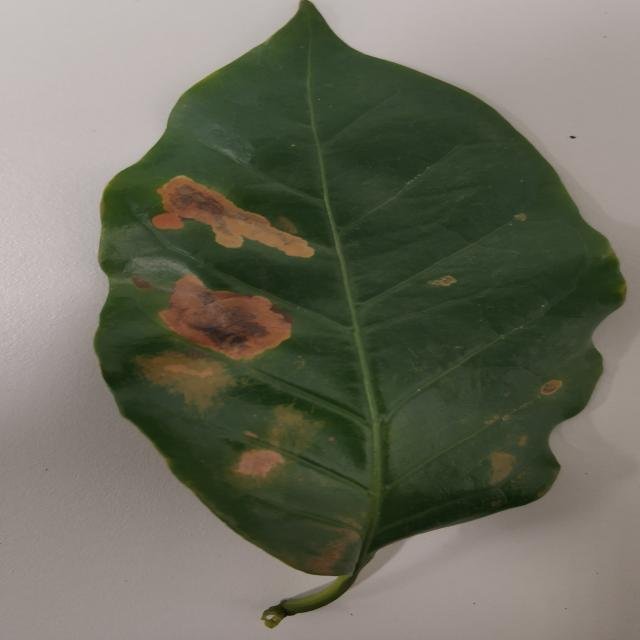Plaga-Minador: (92, 2, 627, 626)
